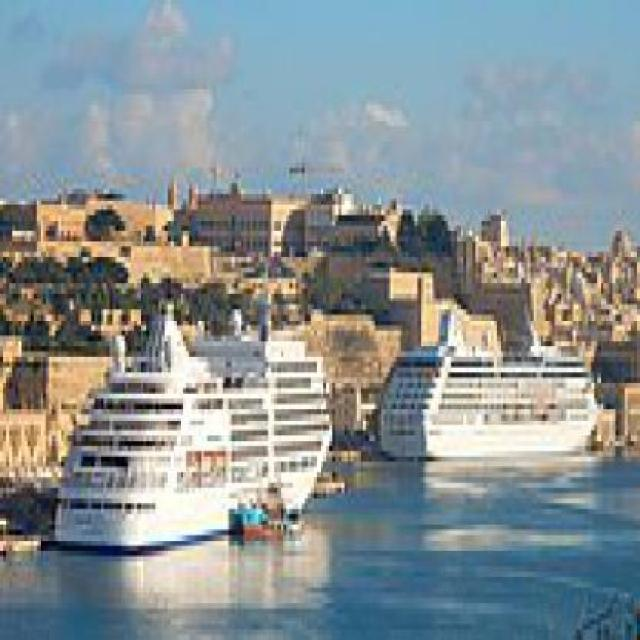cruise: (54, 290, 337, 557), (370, 305, 614, 483)
